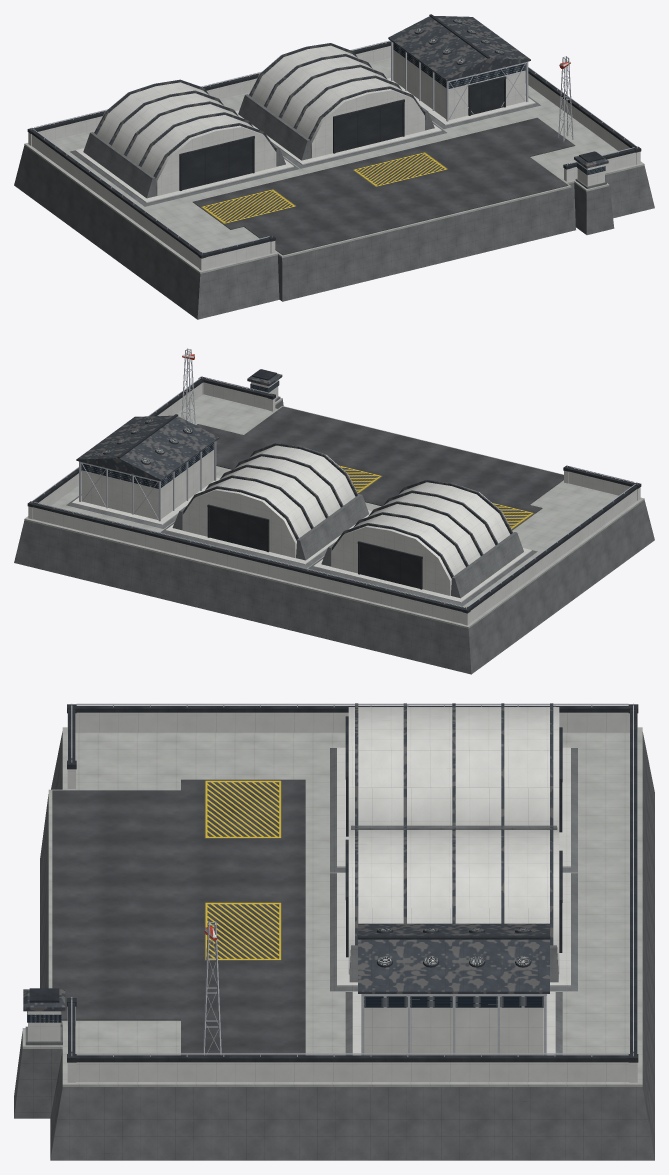
Rendered from pilot_academy.glb.
3 renders of one model, top to bottom at view 1: azimuth 30°, elevation 25°; view 2: azimuth 150°, elevation 25°; view 3: azimuth 270°, elevation 25°, orthographic. The views are drawn at different scales.
Parts seen in each view (by area): view 1: PAC_L1_ConcDark, PAC_L1_ConcLight, PAC_L1_Asphalt, PAC_L1_ConcMid, PAC_L1_RoofCorr, PAC_L1_DoorCorr, PAC_L1_SteelDark, PAC_L1_HatchZone, PAC_L1_SteelTruss, PAC_L1_WindowDark; view 2: PAC_L1_ConcDark, PAC_L1_ConcLight, PAC_L1_Asphalt, PAC_L1_ConcMid, PAC_L1_RoofCorr, PAC_L1_SteelDark, PAC_L1_DoorCorr, PAC_L1_SteelTruss, PAC_L1_WindowDark, PAC_L1_HatchZone; view 3: PAC_L1_ConcLight, PAC_L1_ConcDark, PAC_L1_Asphalt, PAC_L1_ConcMid, PAC_L1_RoofCorr, PAC_L1_SteelDark, PAC_L1_HatchZone, PAC_L1_SteelTruss, PAC_L1_WindowDark, PAC_L1_RoofVent.
Boxes of the visible parts, <box> form: PAC_L1_ConcDark: <box>14,94,654,319</box>; PAC_L1_ConcLight: <box>28,45,640,270</box>; PAC_L1_Asphalt: <box>193,117,575,255</box>; PAC_L1_ConcMid: <box>24,58,644,273</box>; PAC_L1_RoofCorr: <box>94,16,608,178</box>; PAC_L1_DoorCorr: <box>182,79,503,190</box>; PAC_L1_SteelDark: <box>27,14,641,258</box>; PAC_L1_HatchZone: <box>200,152,448,224</box>; PAC_L1_SteelTruss: <box>31,40,637,254</box>; PAC_L1_WindowDark: <box>393,43,605,175</box>; PAC_L1_ConcDark: <box>14,396,654,674</box>; PAC_L1_ConcLight: <box>28,380,640,625</box>; PAC_L1_Asphalt: <box>196,406,563,513</box>; PAC_L1_ConcMid: <box>24,394,644,628</box>; PAC_L1_RoofCorr: <box>76,369,512,578</box>; PAC_L1_SteelDark: <box>27,369,641,613</box>; PAC_L1_DoorCorr: <box>209,508,420,588</box>; PAC_L1_SteelTruss: <box>31,348,637,609</box>; PAC_L1_WindowDark: <box>81,381,279,488</box>; PAC_L1_HatchZone: <box>338,465,535,530</box>; PAC_L1_ConcLight: <box>27,707,637,1082</box>; PAC_L1_ConcDark: <box>14,731,654,1160</box>; PAC_L1_Asphalt: <box>52,779,305,1055</box>; PAC_L1_ConcMid: <box>22,727,642,1086</box>; PAC_L1_RoofCorr: <box>23,703,553,1011</box>; PAC_L1_SteelDark: <box>29,704,638,1062</box>; PAC_L1_HatchZone: <box>204,779,282,960</box>; PAC_L1_SteelTruss: <box>71,703,633,1056</box>; PAC_L1_WindowDark: <box>27,996,543,1022</box>; PAC_L1_RoofVent: <box>377,928,530,965</box>.
Size of the model in its own units: 112 by 29 by 82.15.
Materials: 12 (12 with a texture image).
